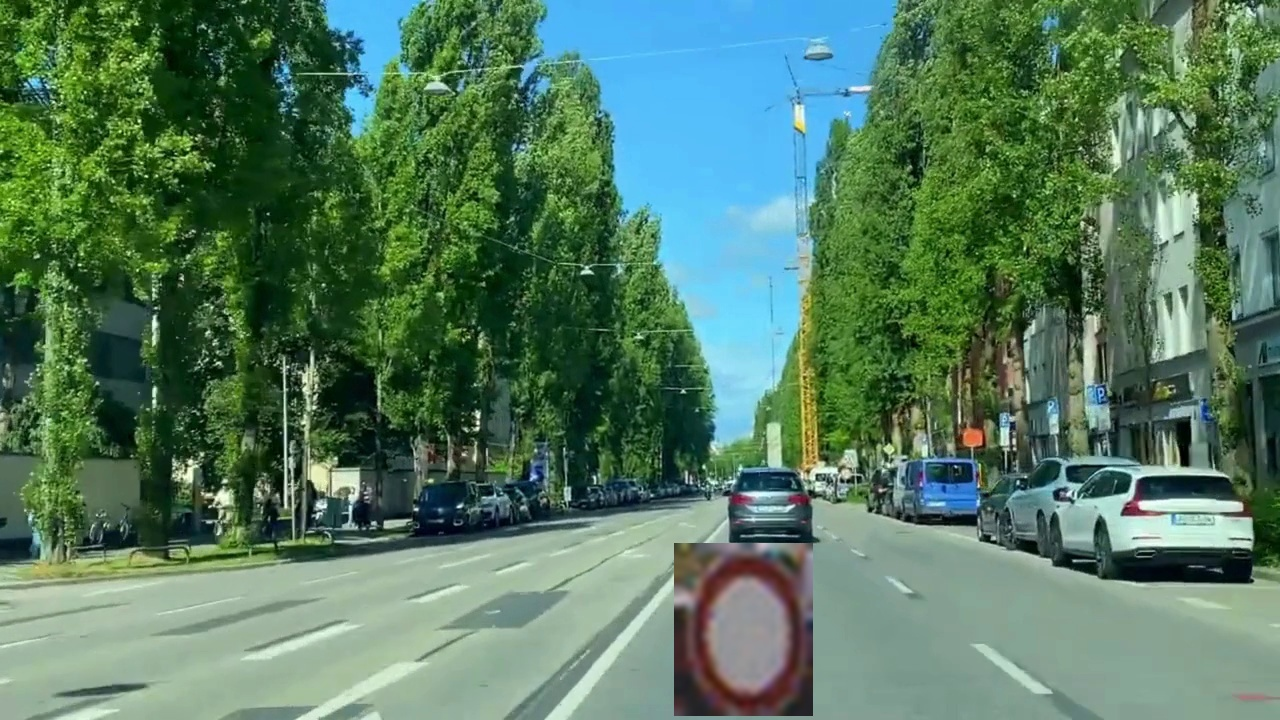No vehicles: (674, 543, 813, 716)
